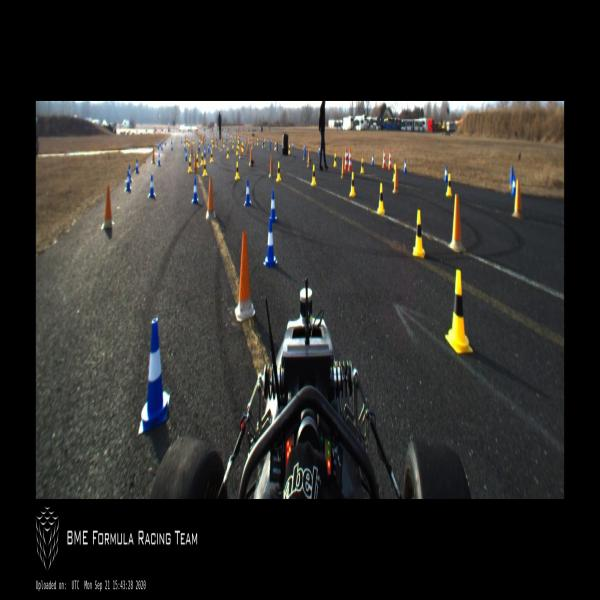blue_cone: (138, 317, 170, 436), (264, 219, 278, 266), (269, 189, 277, 222), (244, 179, 252, 205), (148, 175, 155, 197), (192, 178, 198, 203), (511, 174, 515, 194), (444, 164, 448, 182), (126, 172, 130, 190), (128, 166, 132, 182), (135, 160, 139, 172), (404, 159, 407, 172), (158, 153, 160, 165), (372, 154, 374, 165), (185, 150, 187, 161), (171, 141, 173, 151), (204, 147, 206, 157), (184, 144, 186, 152), (318, 147, 320, 154), (210, 145, 212, 152), (292, 142, 294, 148), (161, 144, 163, 150), (347, 150, 348, 161), (208, 144, 209, 152), (181, 136, 182, 144), (199, 143, 200, 150), (226, 134, 227, 141), (158, 142, 159, 148), (271, 138, 272, 144), (165, 139, 166, 145), (160, 141, 160, 147)
large_orange_cone: (348, 148, 352, 171), (344, 148, 348, 170), (382, 150, 386, 168), (389, 150, 392, 169)
yellow_cone: (444, 272, 473, 354), (413, 210, 425, 256), (377, 183, 385, 214), (350, 171, 356, 197), (446, 173, 452, 196), (311, 164, 316, 186), (276, 162, 281, 181), (235, 161, 240, 179), (188, 157, 192, 172), (203, 161, 207, 175), (392, 164, 395, 182), (200, 152, 204, 165), (361, 158, 364, 173), (196, 154, 199, 168), (210, 150, 213, 162), (226, 148, 229, 158), (288, 145, 291, 154), (334, 154, 336, 166), (241, 141, 243, 150), (274, 142, 276, 150), (242, 143, 244, 151), (223, 140, 225, 148), (232, 140, 234, 148), (250, 137, 252, 144), (186, 138, 188, 144), (188, 140, 190, 146), (230, 136, 232, 142), (237, 146, 238, 154), (212, 139, 213, 147), (238, 142, 239, 150), (257, 138, 258, 145), (238, 137, 239, 144), (193, 138, 194, 144), (264, 140, 264, 147)
